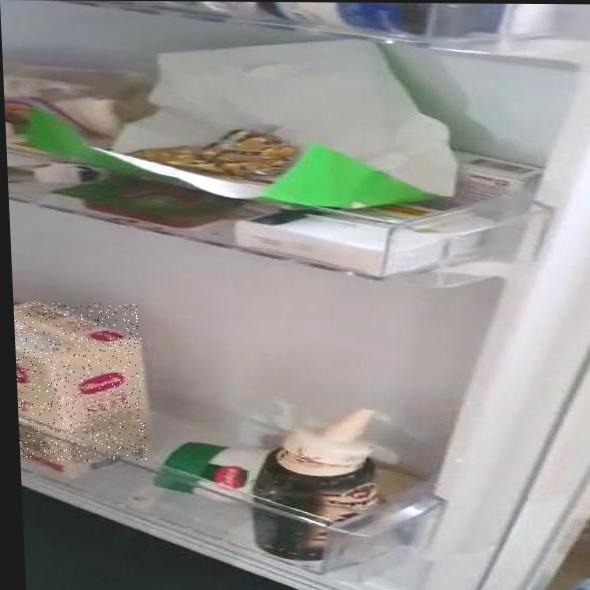milk: (13, 303, 146, 461)
